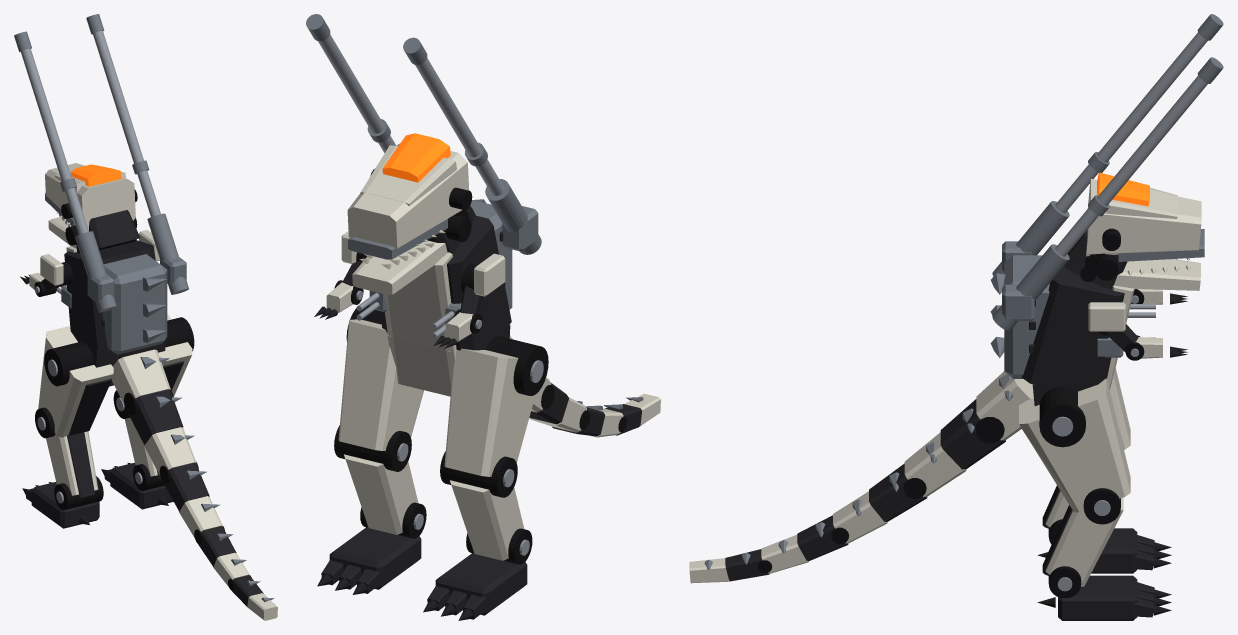
File: gojulas.glb
3 views of the same model, side by side, from view 1: azimuth 30°, elevation 25°; view 2: azimuth 150°, elevation 25°; view 3: azimuth 270°, elevation 25° (orthographic). The views are drawn at different scales.
Parts seen in each view (by area): view 1: tail (×4), leftLeg (×3), core (×2), backMount (×2), rightLeg (×3), head (×3), leftWeapon (×2); view 2: leftLeg (×4), rightLeg (×3), core (×3), head (×4), backMount (×2), tail (×3), headWeapon, leftWeapon (×2), rightWeapon; view 3: rightLeg (×4), tail (×4), backMount (×2), core (×2), head (×4), leftLeg (×2), headWeapon, rightWeapon.
Boxes of the visible parts, <box> form: tail (×4): <box>112,349,277,620</box>; leftLeg (×3): <box>25,326,113,528</box>; core (×2): <box>64,210,167,386</box>; backMount (×2): <box>14,14,188,312</box>; rightLeg (×3): <box>104,313,194,509</box>; head (×3): <box>45,163,137,245</box>; leftWeapon (×2): <box>29,254,73,296</box>; leftLeg (×4): <box>427,336,548,619</box>; rightLeg (×3): <box>321,305,426,593</box>; core (×3): <box>380,199,512,396</box>; head (×4): <box>347,133,472,259</box>; backMount (×2): <box>306,14,541,254</box>; tail (×3): <box>509,336,660,437</box>; headWeapon: <box>352,240,447,295</box>; leftWeapon (×2): <box>445,253,505,341</box>; rightWeapon: <box>326,231,356,312</box>; rightLeg (×4): <box>1019,378,1154,620</box>; tail (×4): <box>689,371,1033,583</box>; backMount (×2): <box>992,14,1223,330</box>; core (×2): <box>990,230,1127,406</box>; head (×4): <box>1086,172,1204,280</box>; leftLeg (×2): <box>1042,368,1154,573</box>; headWeapon: <box>1114,259,1200,290</box>; rightWeapon: <box>1088,302,1162,358</box>.
Size of the model in its own units: 1.95 by 6.19 by 5.44.
